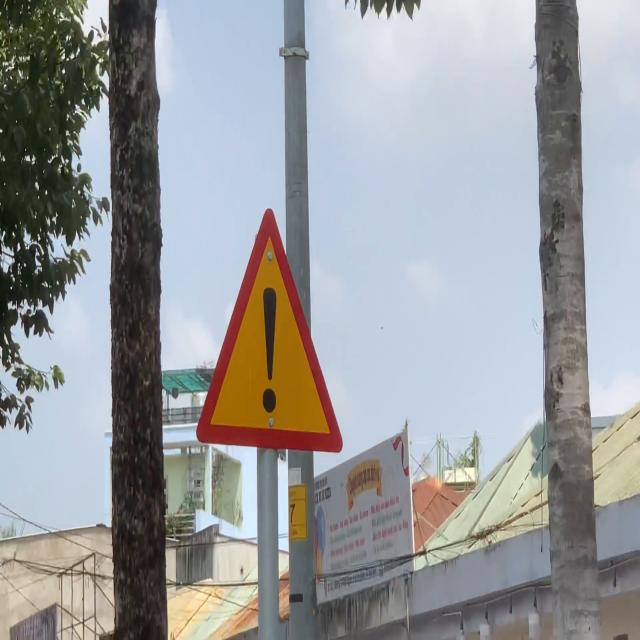Nguy hiem: (192, 204, 349, 461)
